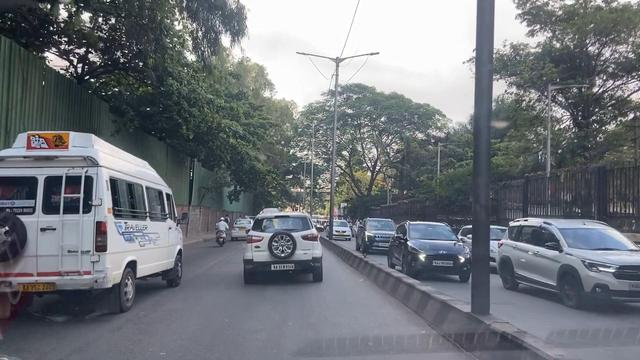HMV: (1, 127, 187, 316)
LMV: (247, 209, 327, 288)
